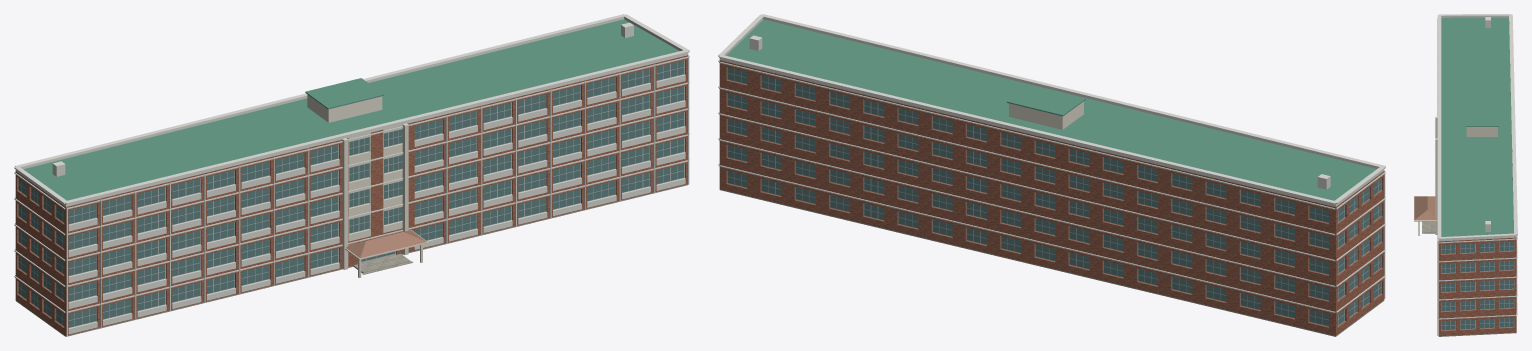
3 views of the same model, side by side, from view 1: azimuth 30°, elevation 25°; view 2: azimuth 150°, elevation 25°; view 3: azimuth 270°, elevation 25° (orthographic). The views are drawn at different scales.
Parts seen in each view (by area): view 1: wing1__white, wing1__glass, wing1__brick, wing1__roof, wing1__frame, wing1__cream, wing1__canopy, wing1__stone, wing1__threshold-main; view 2: wing1__brick, wing1__roof, wing1__glass, wing1__white, wing1__frame, wing1__stone, wing1__cream; view 3: wing1__roof, wing1__brick, wing1__white, wing1__glass, wing1__frame, wing1__cream, wing1__canopy, wing1__threshold-main, wing1__stone.
Boxes of the visible parts, x1,y1,x2,y2 form: wing1__white: (14, 14, 689, 336); wing1__glass: (18, 60, 684, 327); wing1__brick: (15, 55, 688, 335); wing1__roof: (23, 19, 679, 200); wing1__frame: (18, 60, 684, 327); wing1__cream: (307, 94, 428, 277); wing1__canopy: (346, 230, 426, 258); wing1__stone: (15, 184, 687, 336); wing1__threshold-main: (353, 253, 410, 272); wing1__brick: (719, 60, 1384, 335); wing1__roof: (726, 19, 1376, 200); wing1__glass: (727, 67, 1381, 326); wing1__white: (718, 14, 1385, 313); wing1__frame: (727, 67, 1381, 326); wing1__stone: (719, 189, 1384, 336); wing1__cream: (1009, 101, 1083, 129); wing1__roof: (1441, 17, 1513, 236); wing1__brick: (1438, 36, 1516, 336); wing1__white: (1437, 14, 1517, 335); wing1__glass: (1441, 22, 1513, 330); wing1__frame: (1441, 242, 1514, 330); wing1__cream: (1414, 116, 1497, 235); wing1__canopy: (1414, 196, 1437, 220); wing1__threshold-main: (1424, 221, 1435, 233); wing1__stone: (1438, 332, 1516, 336).
Size of the model in its own units: 91.16 by 20.43 by 17.81.
8 materials, 2 textured.
